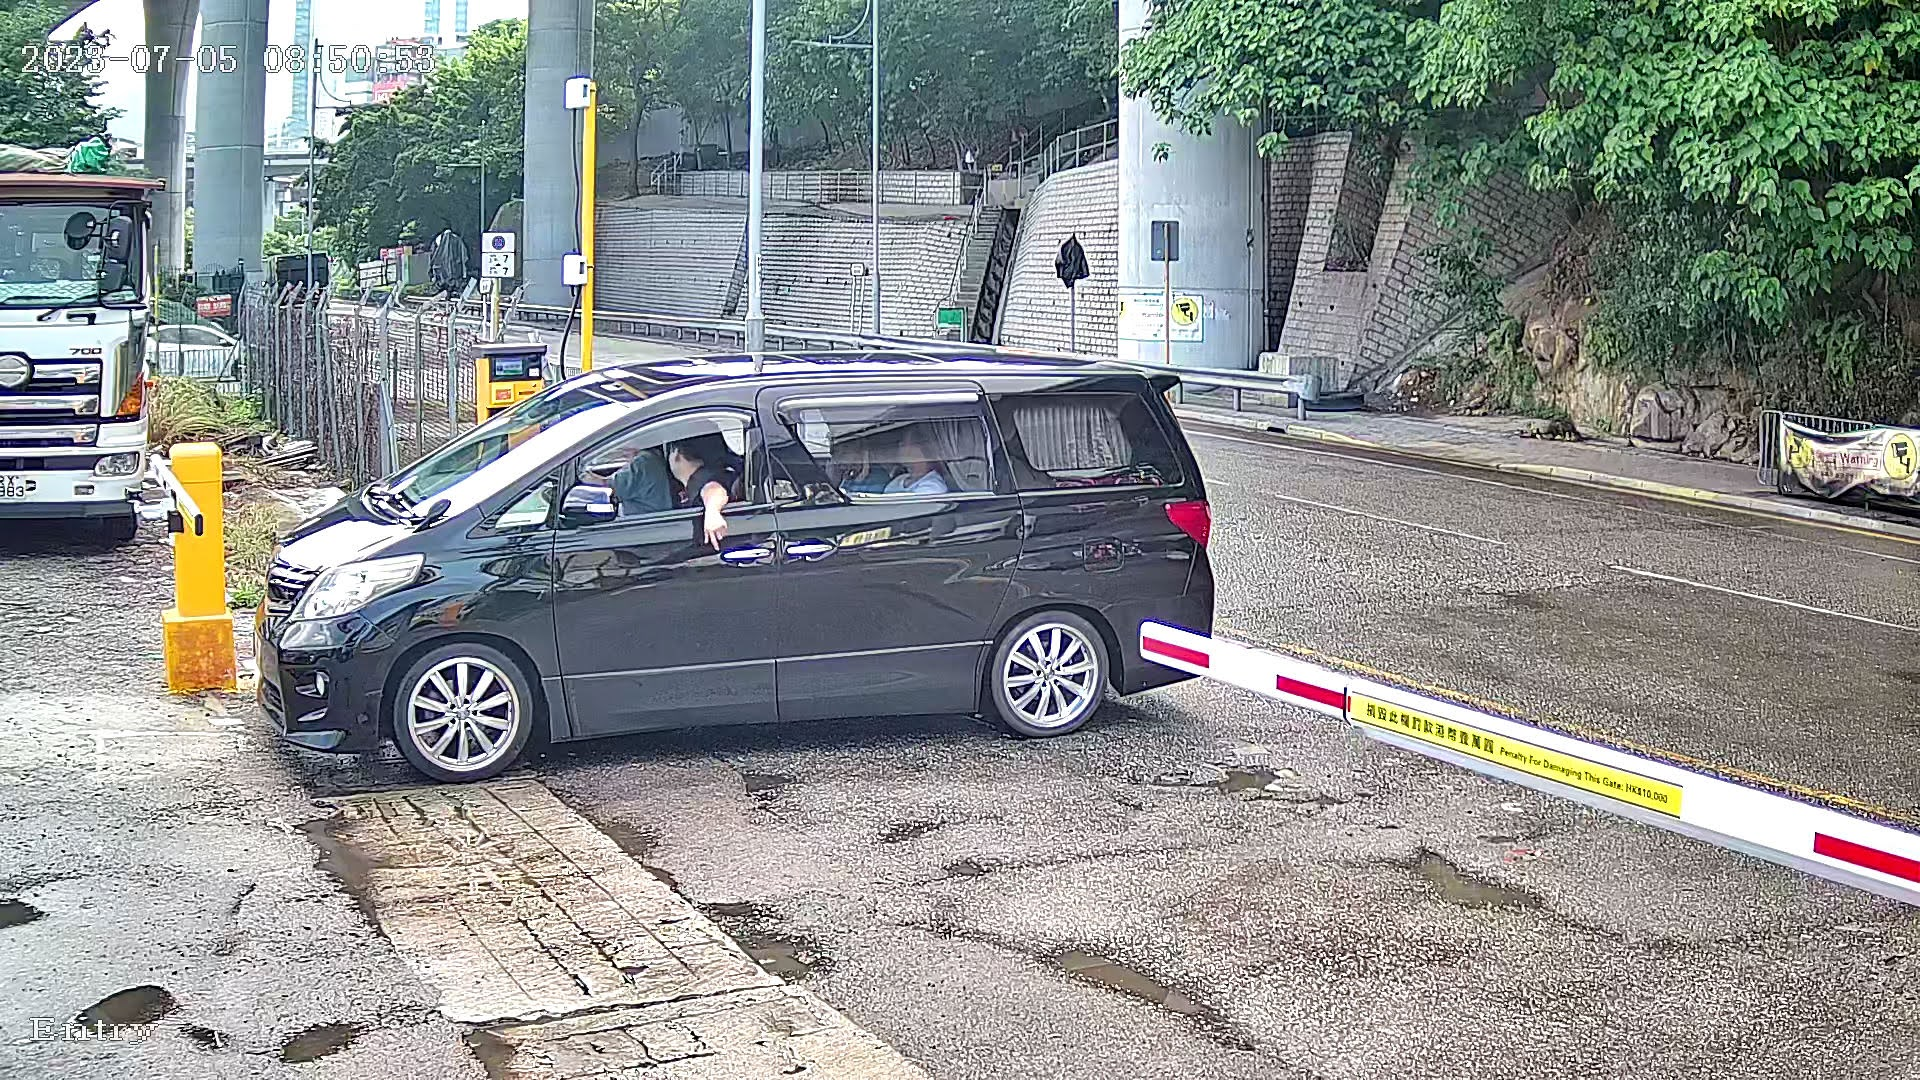privatecar: (210, 298, 1250, 775)
